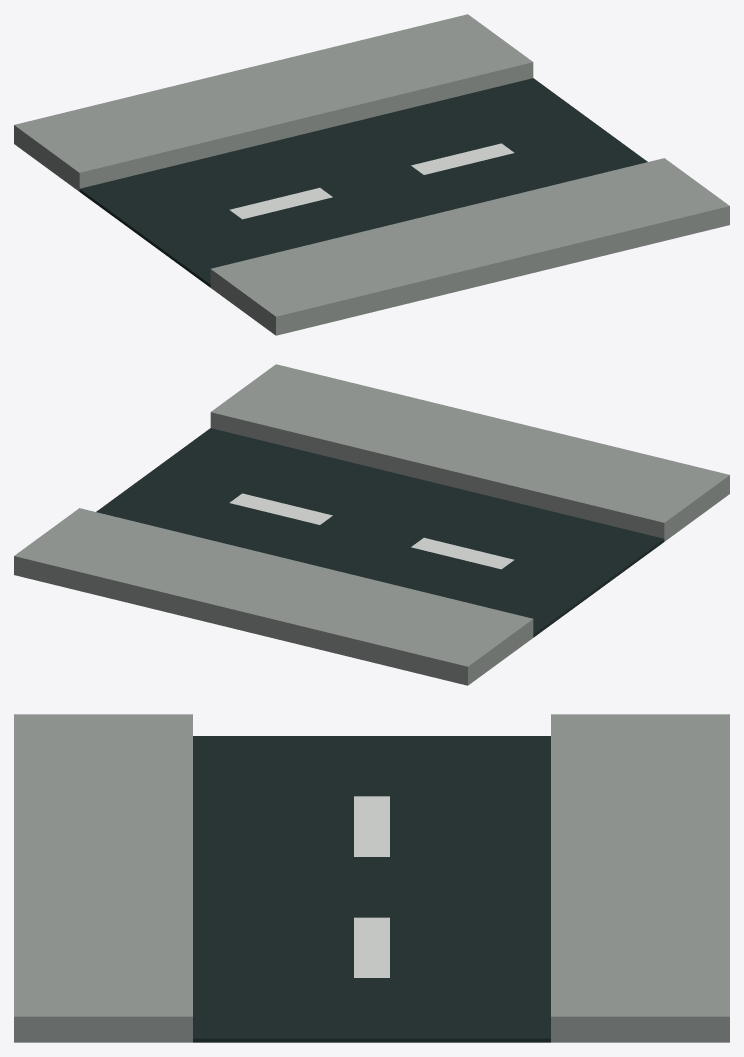
File: Road_Straight.fbx
The picture shows the model from 3 angles, top to bottom: view 1: azimuth 30°, elevation 25°; view 2: azimuth 150°, elevation 25°; view 3: azimuth 270°, elevation 25°; orthographic projection. The views are drawn at different scales.
Visible parts, largest first — view 1: Road_Straight; view 2: Road_Straight; view 3: Road_Straight.
Boxes of the visible parts, x1,y1,x2,y2 form: Road_Straight: (14, 14, 729, 335); Road_Straight: (14, 364, 729, 685); Road_Straight: (14, 714, 729, 1042).
Size of the model in its own units: 500 by 20.03 by 500.
